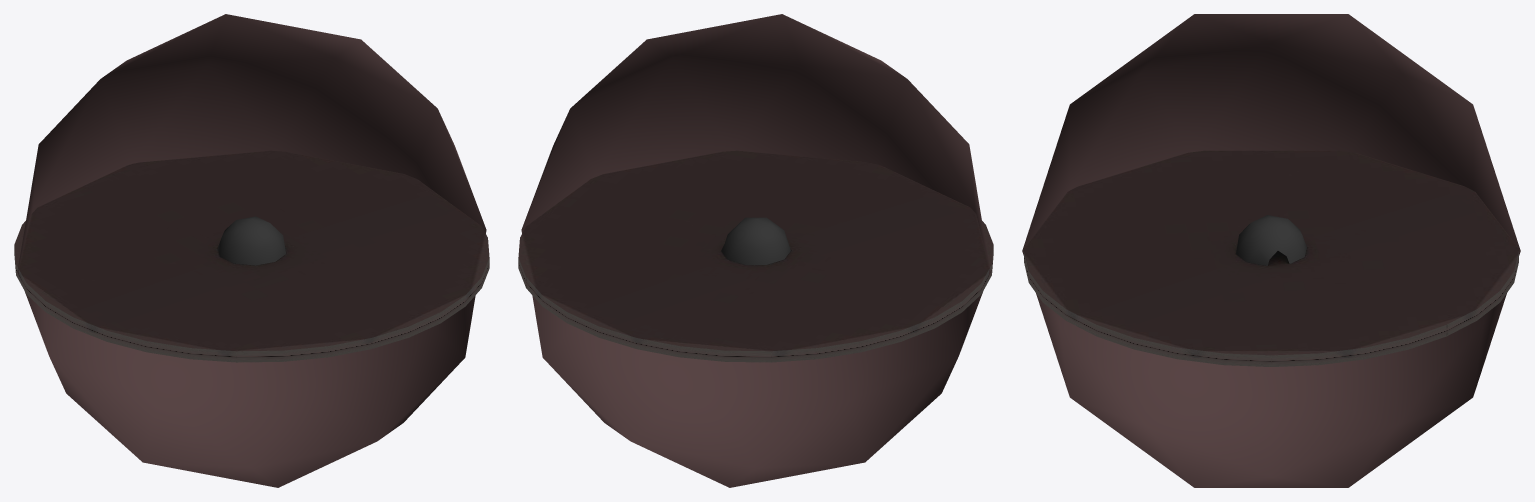
3 views of the same model, side by side, from view 1: azimuth 30°, elevation 25°; view 2: azimuth 150°, elevation 25°; view 3: azimuth 270°, elevation 25° (orthographic). The views are drawn at different scales.
Visible parts, largest first — view 1: envirosphere.001, ground.003, lodge.003; view 2: envirosphere.001, ground.003, lodge.003; view 3: envirosphere.001, ground.003, lodge.003.
Boxes of the visible parts, x1,y1,x2,y2 form: envirosphere.001: (17, 14, 486, 487); ground.003: (14, 150, 489, 362); lodge.003: (218, 216, 286, 265); envirosphere.001: (521, 14, 990, 487); ground.003: (518, 150, 993, 362); lodge.003: (721, 217, 790, 264); envirosphere.001: (1022, 14, 1520, 487); ground.003: (1024, 150, 1518, 366); lodge.003: (1236, 215, 1306, 265).
Bounding box in the file's own units: 13.58 × 13.69 × 13.69.
3 materials, 1 textured.
